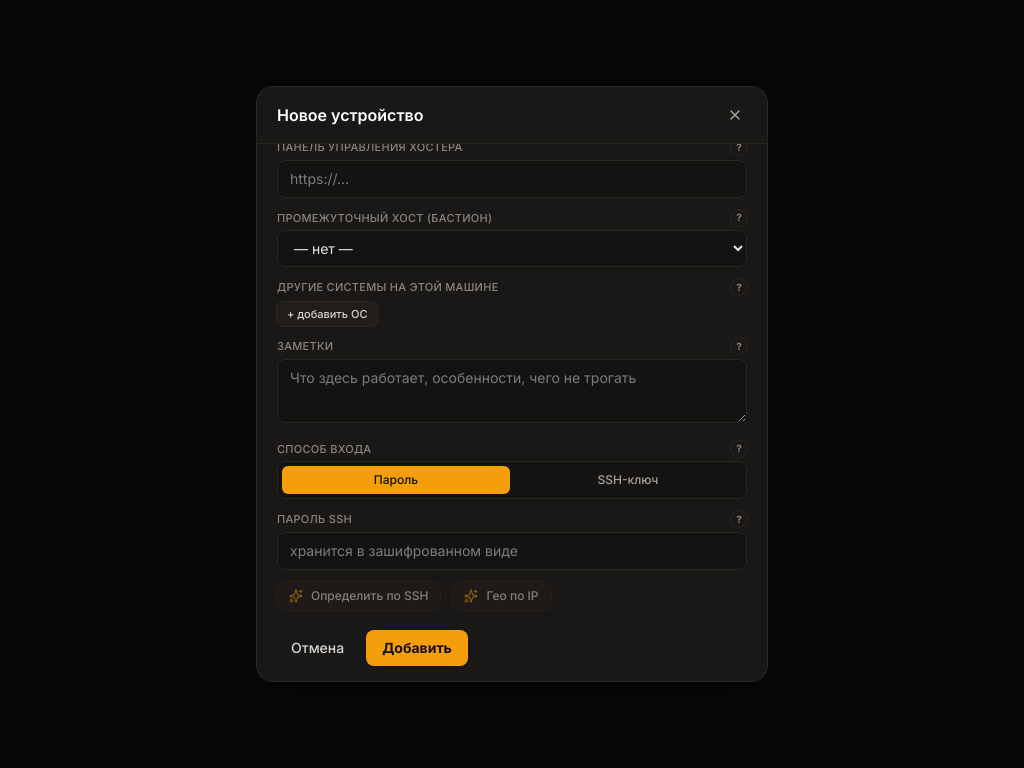
форма устройства — что уходит в хранилище › незаполненное имя не уходит в хранилище
(page scrolled)
Click the button "Добавить": (417,648) [366,630,468,666]
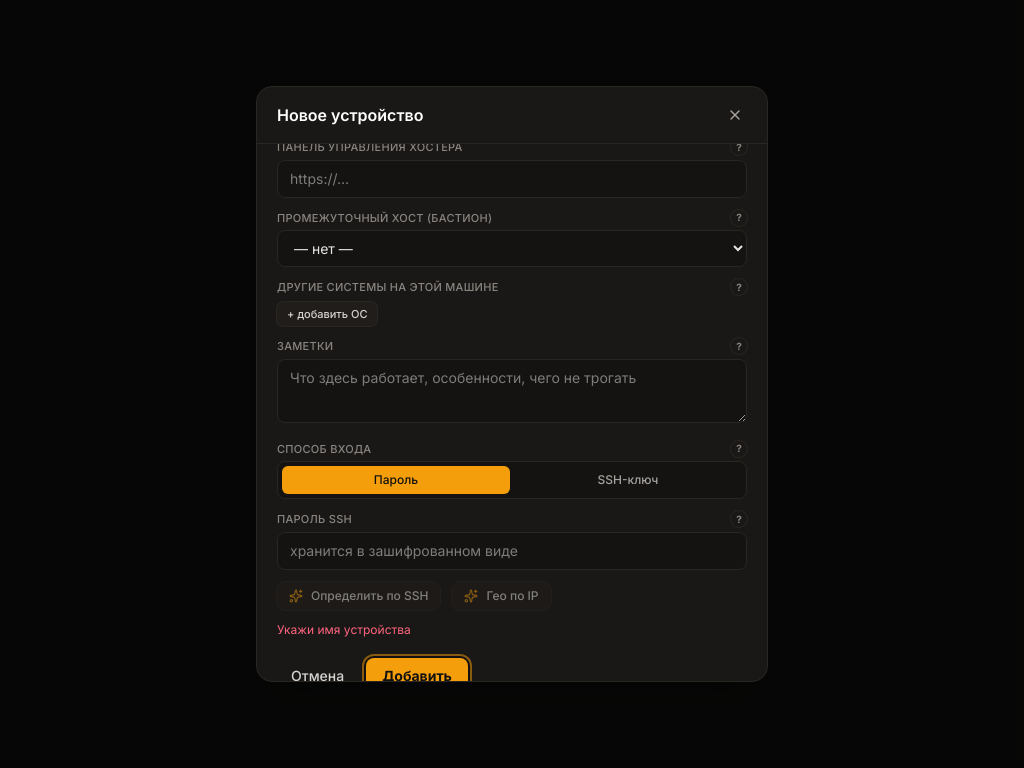
expect the text "Укажи имя устройства" is shown: met, box [277,622,411,637]
